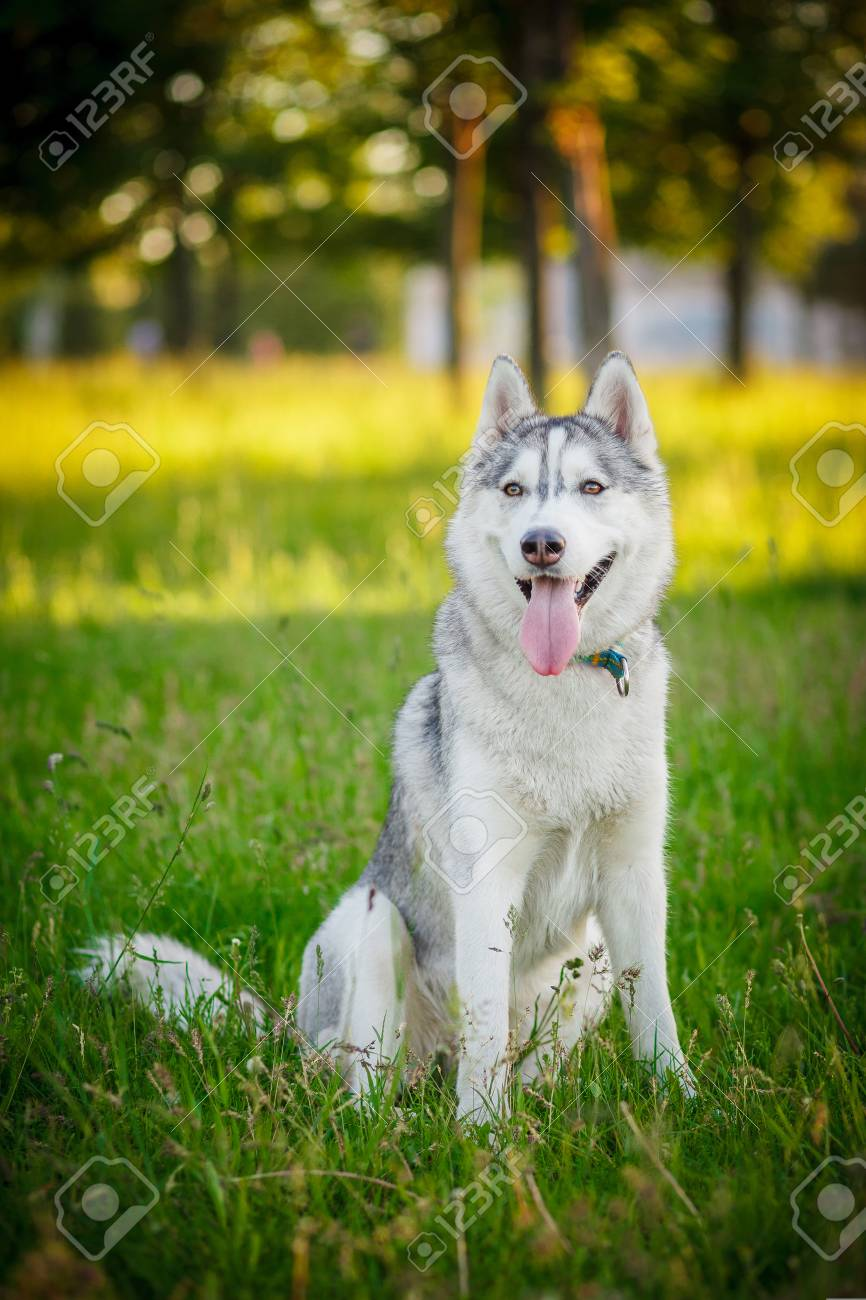husky: (234, 320, 738, 1146)
